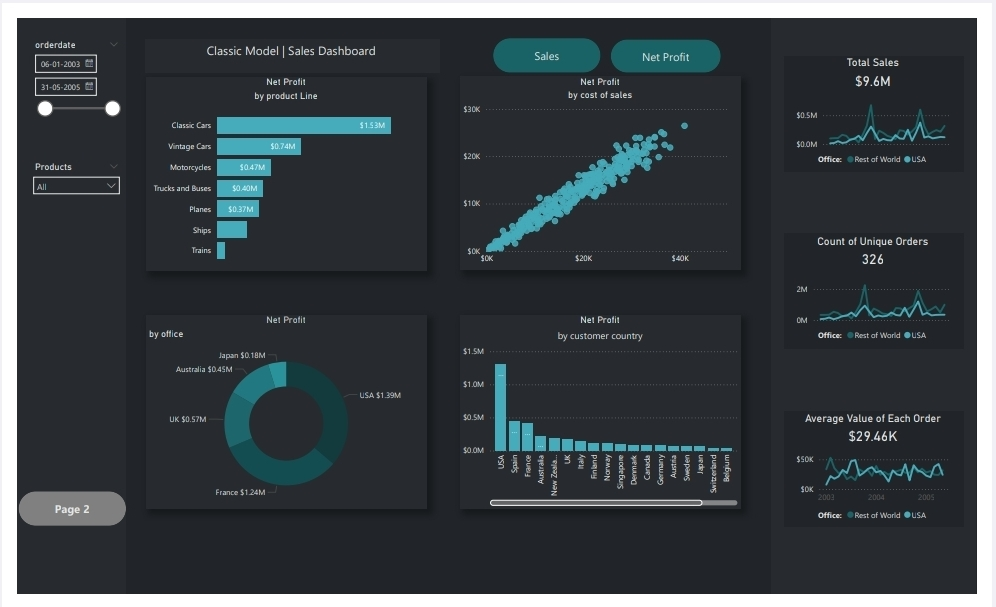

Layout of this report page (visuals, bound fields, positions):
{"tool":"powerbi","page":{"name":"sales overview page 1","canvas":[1500,900],"ordinal":0},"visuals":[{"type":"shape","box":[0,0,170.1,900.8],"z":0},{"type":"shape","box":[1179.3,0,320,900.6],"z":1000},{"type":"shape","box":[1199,59.3,280.4,179.8],"z":2000},{"type":"shape","box":[1199,614.8,280.4,179.8],"z":3000},{"type":"shape","box":[1199,337.1,280.4,179.8],"z":4000},{"type":"card","title":"Total  Sales","fields":{"Values":["Sum(classicmodels sales_data_for_power_bi.sales_value)"]},"box":[1204.4,59.3,267.8,57.5],"z":5000},{"type":"card","title":"Count of Unique Orders","fields":{"Values":["Count(classicmodels sales_data_for_power_bi.ordernumber)"]},"box":[1204.4,338,267.8,57.5],"z":6000},{"type":"card","title":"Average Value of Each Order","fields":{"Values":["classicmodels sales_data_for_power_bi.Average Sales Value per Order"]},"box":[1204.4,614.8,267.8,57.5],"z":7000},{"type":"lineChart","fields":{"Y":["Sum(classicmodels sales_data_for_power_bi.sales_value)"],"Category":["classicmodels sales_data_for_power_bi.orderdate.Variation.Date Hierarchy.Year","classicmodels sales_data_for_power_bi.orderdate.Variation.Date Hierarchy.Quarter","classicmodels sales_data_for_power_bi.orderdate.Variation.Date Hierarchy.Month"],"Series":["classicmodels sales_data_for_power_bi.Office Grouped"]},"box":[1213.4,111.5,251.7,127.6],"z":8000},{"type":"lineChart","fields":{"Y":["Sum(classicmodels sales_data_for_power_bi.ordernumber)"],"Category":["classicmodels sales_data_for_power_bi.orderdate.Variation.Date Hierarchy.Year","classicmodels sales_data_for_power_bi.orderdate.Variation.Date Hierarchy.Quarter","classicmodels sales_data_for_power_bi.orderdate.Variation.Date Hierarchy.Month"],"Series":["classicmodels sales_data_for_power_bi.Office Grouped"]},"box":[1213.4,386.5,251.7,127.6],"z":9000},{"type":"lineChart","fields":{"Series":["classicmodels sales_data_for_power_bi.Office Grouped"],"Category":["classicmodels sales_data_for_power_bi.orderdate.Variation.Date Hierarchy.Year","classicmodels sales_data_for_power_bi.orderdate.Variation.Date Hierarchy.Quarter","classicmodels sales_data_for_power_bi.orderdate.Variation.Date Hierarchy.Month"],"Y":["classicmodels sales_data_for_power_bi.Average Sales Value per Order"]},"box":[1213.4,666.9,251.7,127.6],"z":10000},{"type":"clusteredBarChart","fields":{"Category":["classicmodels sales_data_for_power_bi.productLine"],"Y":["Table.Selected Metric"]},"box":[201.3,91.7,438.6,303.8],"z":11000},{"type":"actionButton","box":[744.2,30.9,168.2,54.1],"z":12000},{"type":"actionButton","box":[927.8,32.9,172,52.2],"z":13000},{"type":"scatterChart","fields":{"Y":["Table.Selected Metric"],"X":["Sum(classicmodels sales_data_for_power_bi.cost_of_sales)"],"Category":["classicmodels sales_data_for_power_bi.ordernumber"]},"box":[692,90.9,438.8,303.5],"z":15000},{"type":"donutChart","fields":{"Y":["Table.Selected Metric"],"Category":["classicmodels sales_data_for_power_bi.office_country"]},"box":[201,463.9,438.8,303.5],"z":16000},{"type":"columnChart","fields":{"Y":["Table.Selected Metric"],"Category":["classicmodels sales_data_for_power_bi.customer_country"]},"box":[692,463.9,438.8,303.5],"z":17000},{"type":"textbox","box":[201,32.9,460.1,52.2],"z":18000},{"type":"actionButton","box":[1.9,740.3,168.2,54.1],"z":18001},{"type":"slicer","fields":{"Values":["classicmodels sales_data_for_power_bi.orderdate"]},"box":[15.5,29,154.6,166.2],"z":18002},{"type":"slicer","fields":{"Values":["classicmodels sales_data_for_power_bi.productName"]},"box":[15.5,220.4,154.6,166.2],"z":18003}]}

Visuals, with their boxes in screenshot pixels (x1, y1, x2, y2), scaled from the page's 1500x900 canvas onto the 996x607 screenshot:
shape: left=0, top=0, right=113, bottom=606
shape: left=783, top=0, right=995, bottom=606
shape: left=796, top=40, right=982, bottom=161
shape: left=796, top=415, right=982, bottom=536
shape: left=796, top=227, right=982, bottom=349
"Total  Sales" card: left=800, top=40, right=978, bottom=79
"Count of Unique Orders" card: left=800, top=228, right=978, bottom=267
"Average Value of Each Order" card: left=800, top=415, right=978, bottom=453
lineChart - Sum(classicmodels sales_data_for_power_bi.sales_value) x classicmodels sales_data_for_power_bi.orderdate.Variation.Date Hierarchy.Year: left=806, top=75, right=973, bottom=161
lineChart - Sum(classicmodels sales_data_for_power_bi.ordernumber) x classicmodels sales_data_for_power_bi.orderdate.Variation.Date Hierarchy.Year: left=806, top=261, right=973, bottom=347
lineChart - classicmodels sales_data_for_power_bi.Office Grouped x classicmodels sales_data_for_power_bi.orderdate.Variation.Date Hierarchy.Year: left=806, top=450, right=973, bottom=536
clusteredBarChart - classicmodels sales_data_for_power_bi.productLine x Table.Selected Metric: left=134, top=62, right=425, bottom=267
actionButton: left=494, top=21, right=606, bottom=57
actionButton: left=616, top=22, right=730, bottom=57
scatterChart - Table.Selected Metric x Sum(classicmodels sales_data_for_power_bi.cost_of_sales): left=459, top=61, right=751, bottom=266
donutChart - Table.Selected Metric x classicmodels sales_data_for_power_bi.office_country: left=133, top=313, right=425, bottom=518
columnChart - Table.Selected Metric x classicmodels sales_data_for_power_bi.customer_country: left=459, top=313, right=751, bottom=518
textbox: left=133, top=22, right=439, bottom=57
actionButton: left=1, top=499, right=113, bottom=536
slicer - classicmodels sales_data_for_power_bi.orderdate: left=10, top=20, right=113, bottom=132
slicer - classicmodels sales_data_for_power_bi.productName: left=10, top=149, right=113, bottom=261
